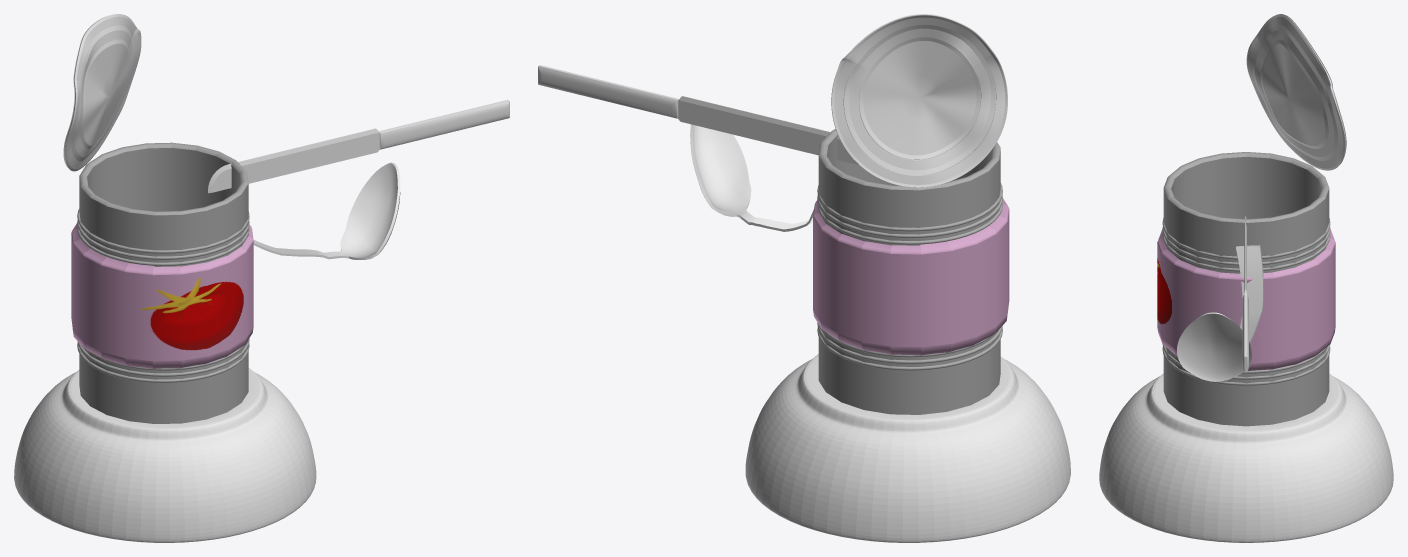
The model's file is GarbageGun.fbx.
3 renders of one model, left to right at view 1: azimuth 30°, elevation 25°; view 2: azimuth 150°, elevation 25°; view 3: azimuth 270°, elevation 25°, orthographic. The views are drawn at different scales.
Visible parts, largest first — view 1: bowl, pCylinder2, pCylinder1, polySurface26, knife, spoon, polySurface22, polySurface20, polySurface1, polySurface21, polySurface2; view 2: bowl, polySurface26, pCylinder1, pCylinder2, knife, spoon, polySurface22, polySurface1, polySurface20, polySurface21, polySurface2; view 3: bowl, pCylinder2, pCylinder1, polySurface26, spoon, knife, polySurface1, polySurface22, polySurface20, polySurface21, polySurface2.
Part boxes in pixels (left/top/right/bottom): bowl: left=14, top=368, right=316, bottom=542; pCylinder2: left=79, top=142, right=248, bottom=423; pCylinder1: left=71, top=223, right=253, bottom=368; polySurface26: left=63, top=14, right=141, bottom=171; knife: left=207, top=100, right=509, bottom=193; spoon: left=253, top=162, right=400, bottom=259; polySurface22: left=77, top=209, right=249, bottom=253; polySurface20: left=77, top=225, right=249, bottom=265; polySurface1: left=77, top=342, right=249, bottom=382; polySurface21: left=77, top=219, right=249, bottom=259; polySurface2: left=77, top=338, right=249, bottom=376; bowl: left=745, top=354, right=1070, bottom=542; polySurface26: left=831, top=14, right=1007, bottom=187; pCylinder1: left=813, top=198, right=1009, bottom=355; pCylinder2: left=818, top=129, right=1000, bottom=414; knife: left=538, top=65, right=858, bottom=165; spoon: left=690, top=124, right=817, bottom=231; polySurface22: left=817, top=183, right=1002, bottom=231; polySurface1: left=817, top=327, right=1002, bottom=370; polySurface20: left=817, top=201, right=1002, bottom=244; polySurface21: left=817, top=195, right=1002, bottom=237; polySurface2: left=817, top=322, right=1002, bottom=363; bowl: left=1099, top=373, right=1393, bottom=542; pCylinder2: left=1163, top=152, right=1329, bottom=426; pCylinder1: left=1157, top=229, right=1335, bottom=370; polySurface26: left=1246, top=14, right=1346, bottom=170; spoon: left=1177, top=245, right=1263, bottom=381; knife: left=1242, top=216, right=1248, bottom=372; polySurface1: left=1162, top=347, right=1330, bottom=385; polySurface22: left=1162, top=218, right=1330, bottom=259; polySurface20: left=1162, top=233, right=1330, bottom=271; polySurface21: left=1162, top=227, right=1330, bottom=265; polySurface2: left=1162, top=344, right=1330, bottom=379.
Size of the model in its own units: 650 by 595 by 359.
